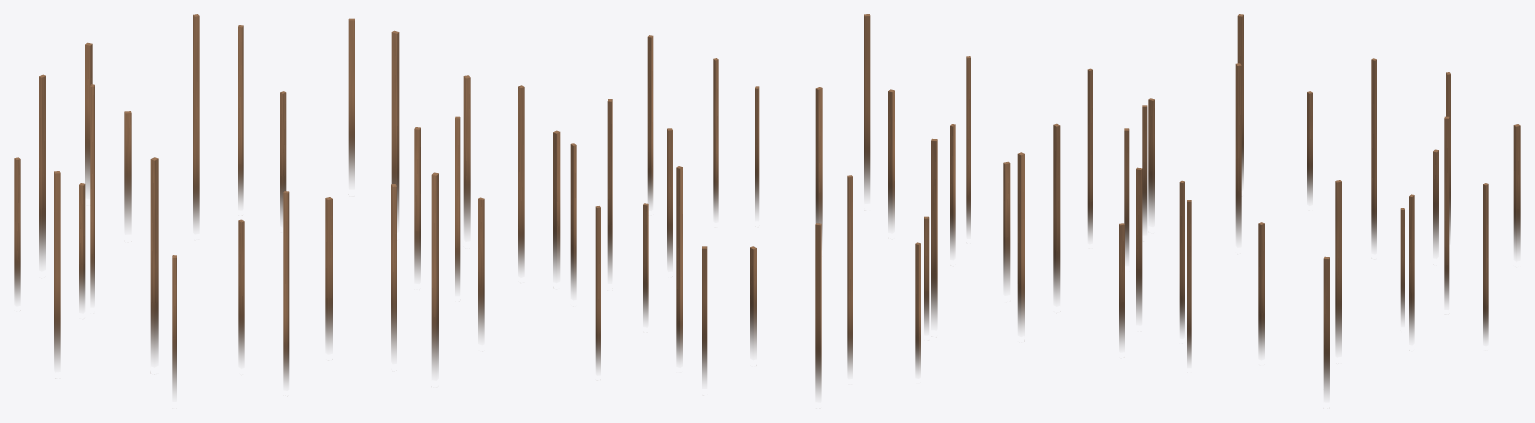
Rendered from stage-timber.glb.
3 renders of one model, left to right at view 1: azimuth 30°, elevation 25°; view 2: azimuth 150°, elevation 25°; view 3: azimuth 270°, elevation 25°, orthographic. The views are drawn at different scales.
Visible parts, largest first — view 1: TimberOpaqueBatch, Timber20Fade; view 2: TimberOpaqueBatch; view 3: TimberOpaqueBatch.
Boxes of the visible parts, x1,y1,x2,y2 form: TimberOpaqueBatch: (14, 14, 524, 343); Timber20Fade: (150, 302, 158, 357); TimberOpaqueBatch: (553, 14, 1024, 346); TimberOpaqueBatch: (1053, 14, 1520, 348).
Size of what is drawn, in the model's own units: 14.21 by 6.78 by 14.09.
2 materials, 2 textured.
